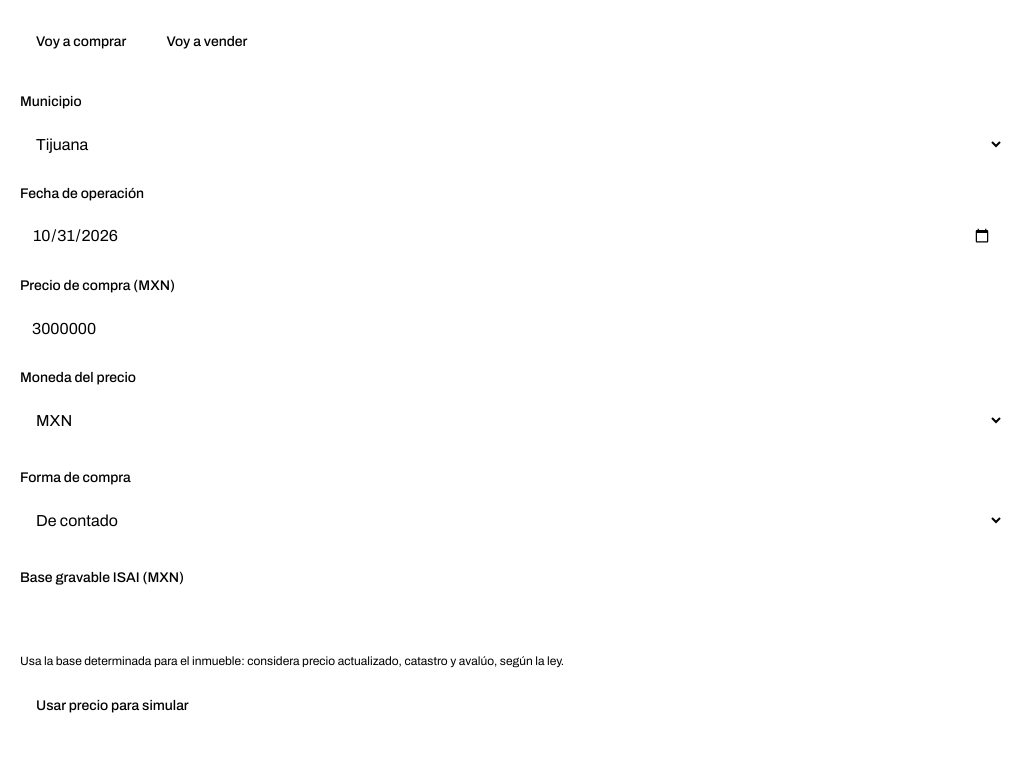
it: closing costs keeps zero commission and identifies a missing commission
The width and height of the screenshot is (1024, 758).
Click the button "Voy a vender" at coordinates (207, 42), box [150,20,263,64]
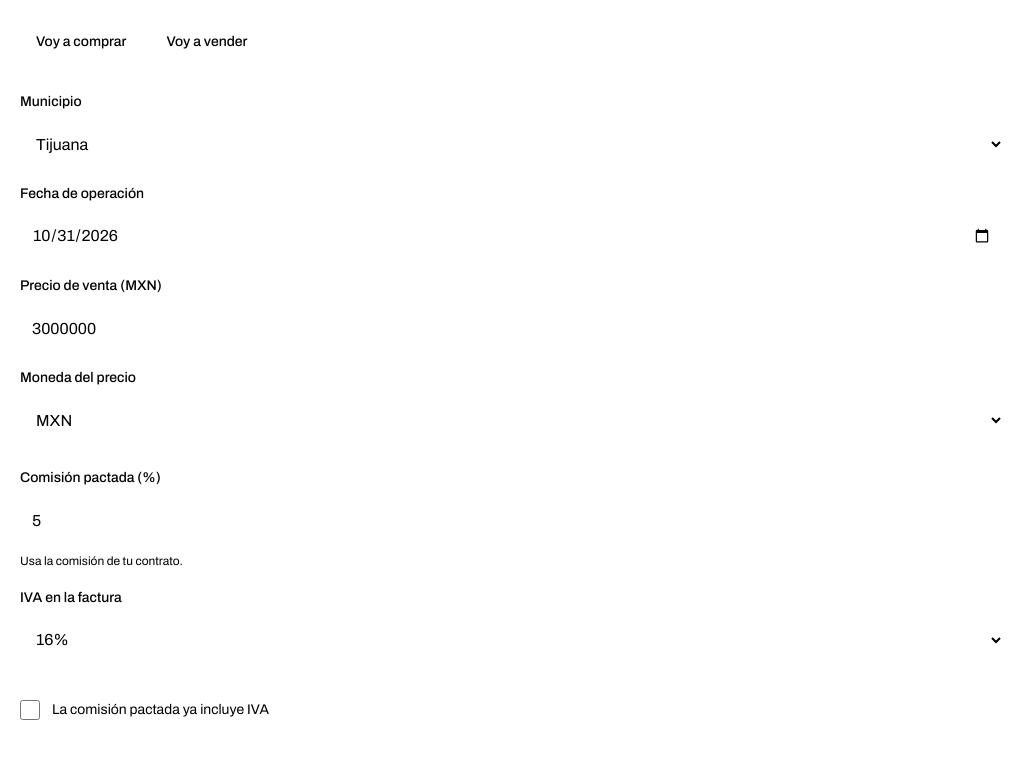
Replace the text in the number field labelled "Comisión pactada (%)" with "0" at coordinates (512, 520), box [20,496,1004,544]
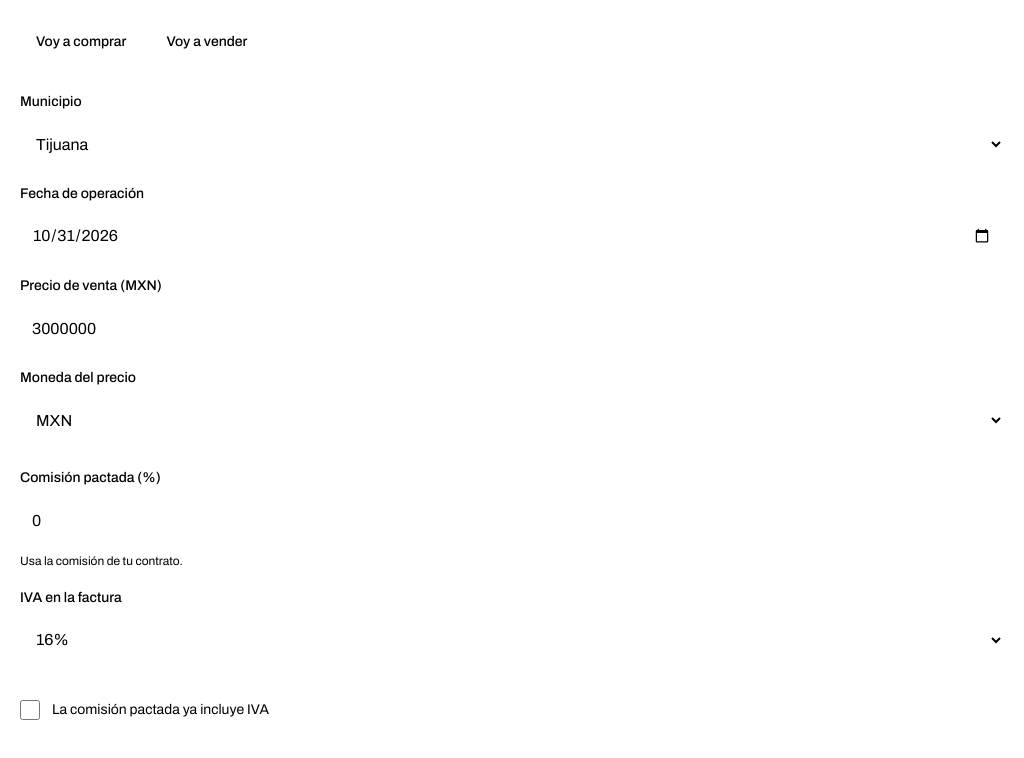
Clear the number field labelled "Comisión pactada (%)" at coordinates (512, 520), box [20,496,1004,544]
(page scrolled)
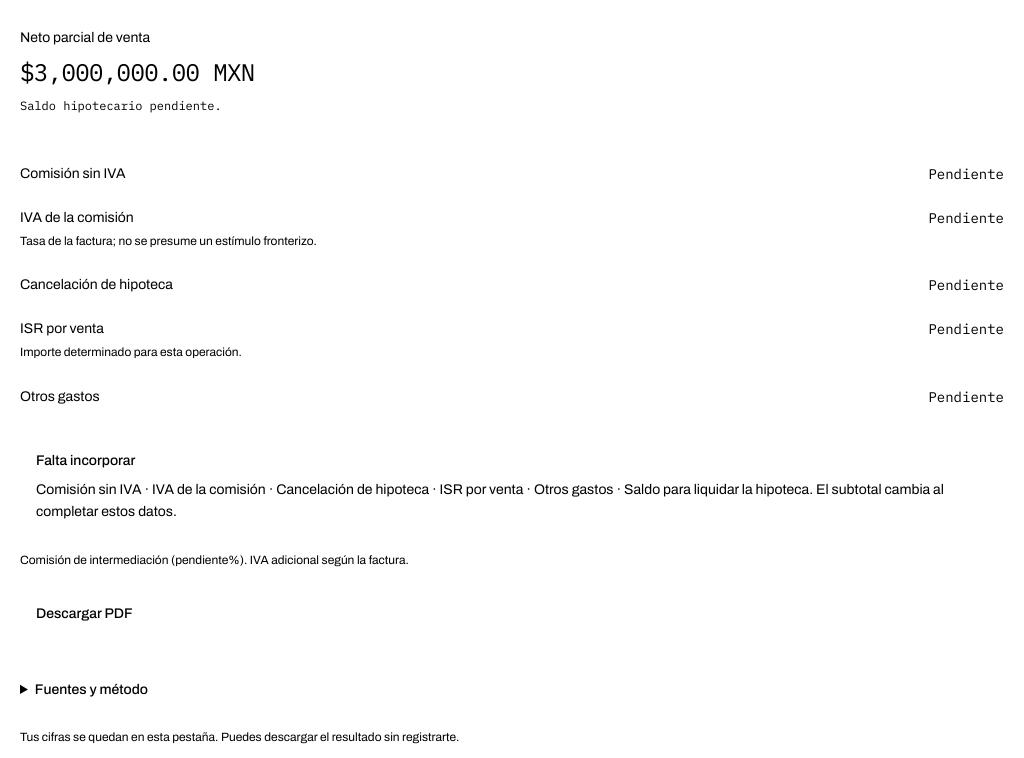
Check: the text "Falta incorporar" is shown, box [36,452,135,468]
Check: the text "Comisión de intermediación (pendiente%)" is shown, box [20,553,409,567]
